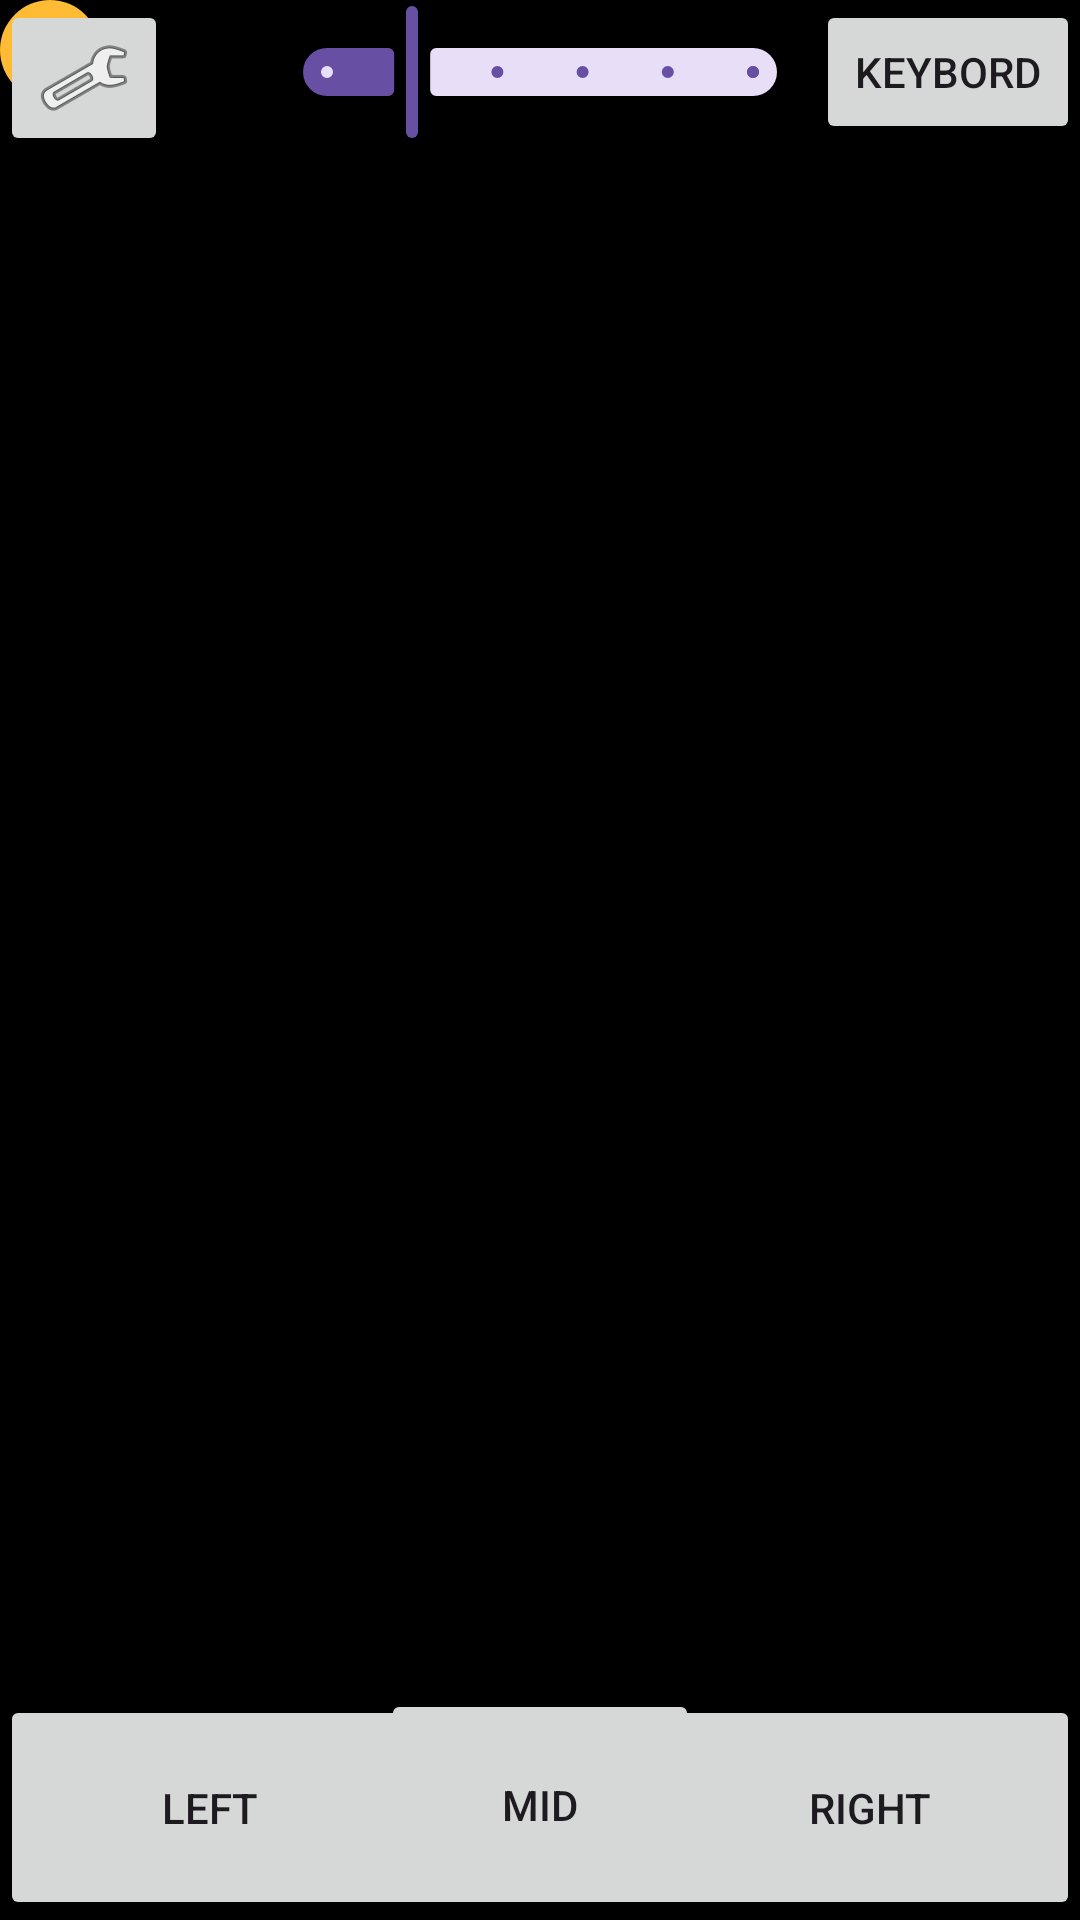

Icons on this 1080px×1920px Android screen, each with its box as (x1, y1, x2, y2):
preferences: (0, 0, 156, 138)
